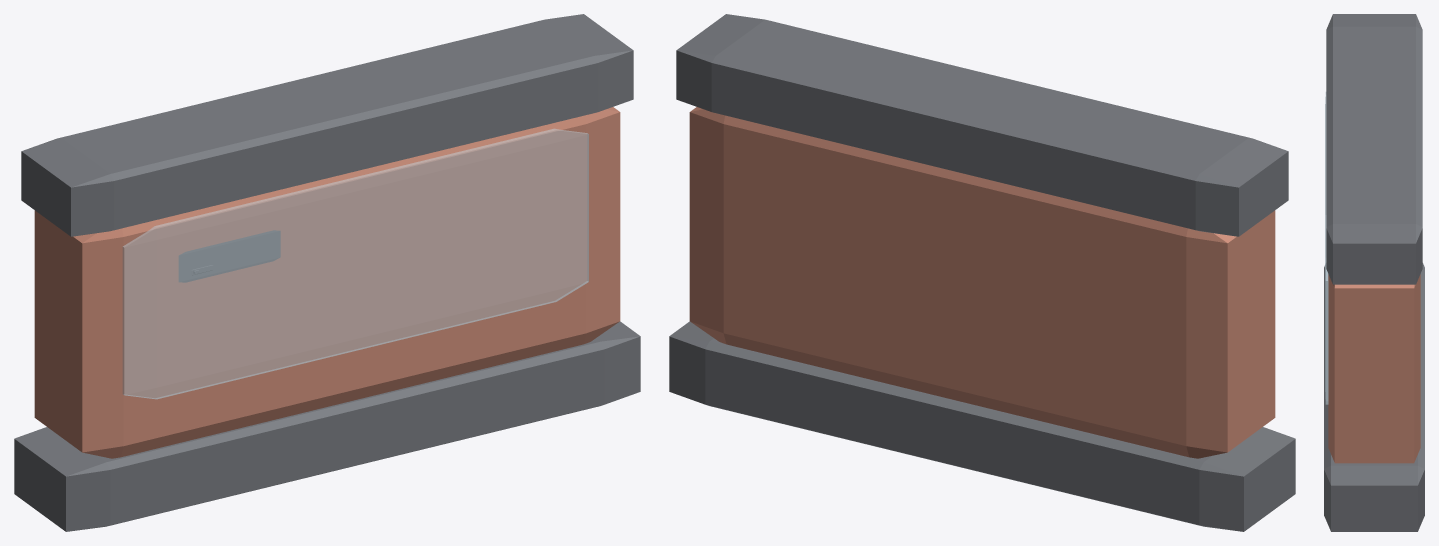
Rendered from b12_brick_arch_window_lintel.glb.
3 views of the same model, side by side, from view 1: azimuth 30°, elevation 25°; view 2: azimuth 150°, elevation 25°; view 3: azimuth 270°, elevation 25° (orthographic). The views are drawn at different scales.
Visible parts, largest first — view 1: b12_brick_arch_window_lintel; view 2: b12_brick_arch_window_lintel; view 3: b12_brick_arch_window_lintel.
Boxes of the visible parts, box(x1,y1,x2,y2) form: b12_brick_arch_window_lintel: box(14, 14, 640, 531); b12_brick_arch_window_lintel: box(669, 14, 1295, 531); b12_brick_arch_window_lintel: box(1324, 14, 1424, 531).
Size of the model in its own units: 1.87 by 1.09 by 0.34.
